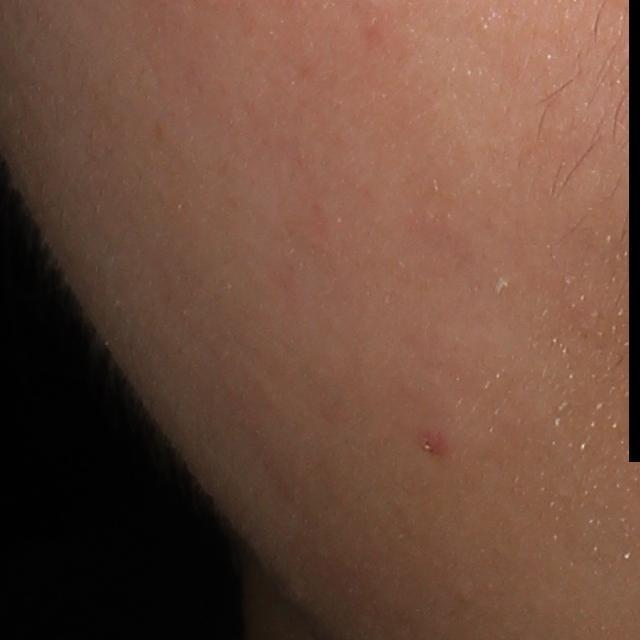papule: (416, 426, 451, 462)
